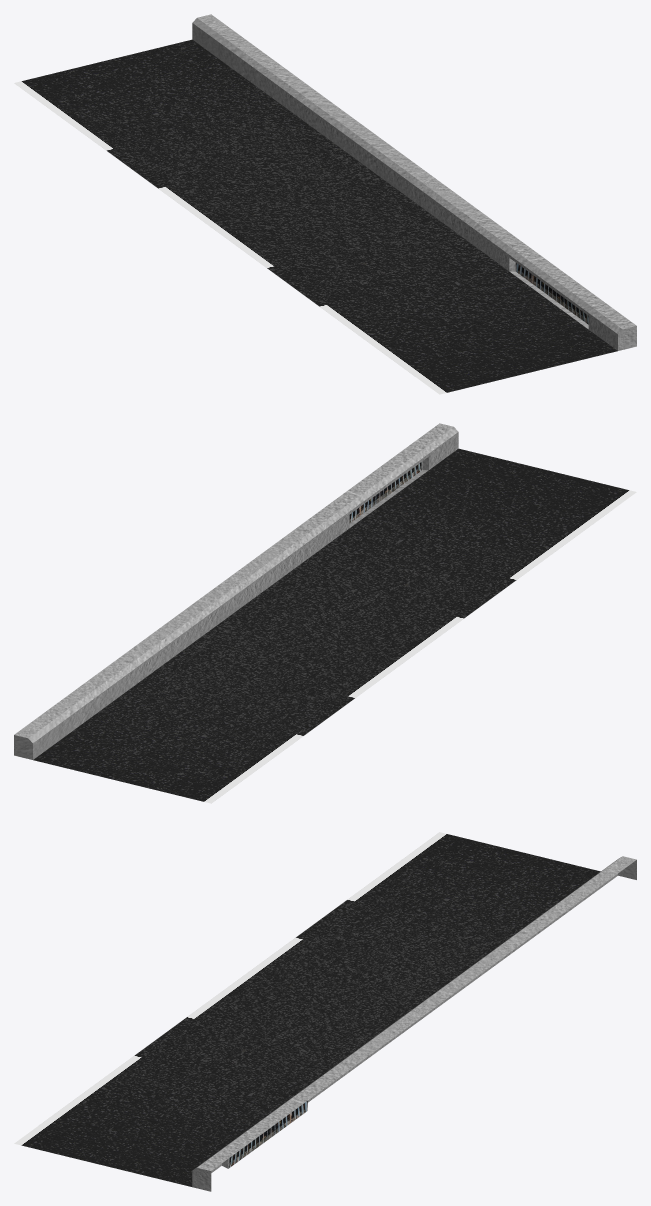
The model's file is roadLeft.fbx.
The picture shows the model from 3 angles, top to bottom: view 1: azimuth 30°, elevation 25°; view 2: azimuth 150°, elevation 25°; view 3: azimuth 330°, elevation 25°; orthographic projection.
Parts seen in each view (by area): view 1: roadLeft; view 2: roadLeft; view 3: roadLeft.
Part boxes in pixels (bbox=[...]): roadLeft: bbox=[14, 14, 636, 394]; roadLeft: bbox=[14, 423, 636, 803]; roadLeft: bbox=[14, 832, 636, 1191].
Bounding box in the file's own units: 559 × 60.43 × 2087.
Materials: 1 (1 with a texture image).
